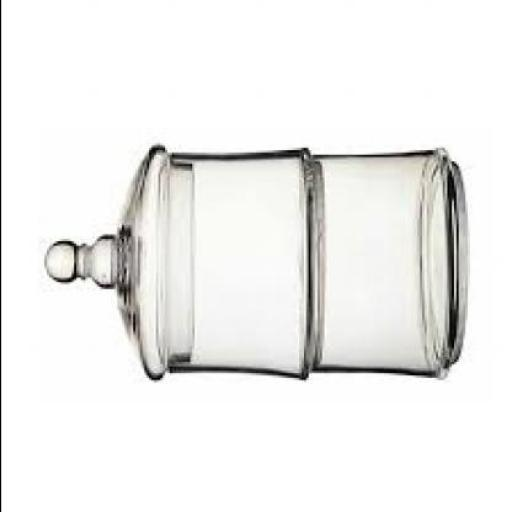glass: (41, 143, 464, 380)
